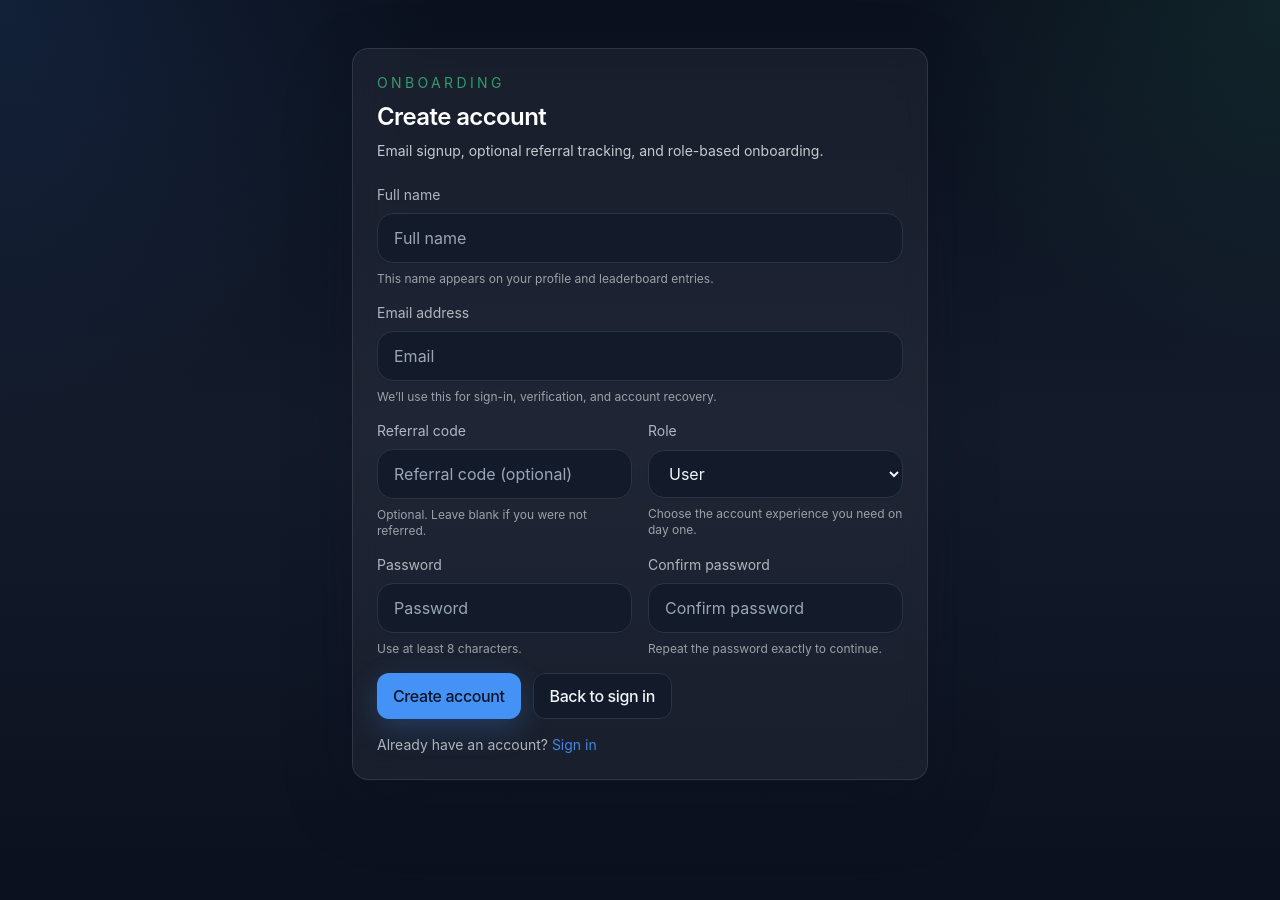
SignupPage › shows advertiser-specific next steps and supports resending confirmation
This screenshot has width=1280, height=900.
Type "Advertiser Team" into the field with placeholder "Full name".
click(640, 238); type("Advertiser Team")  # box 377,213 -> 903,263
Type "ads@example.com" into the field with placeholder "Email".
click(640, 356); type("ads@example.com")  # box 377,331 -> 903,381
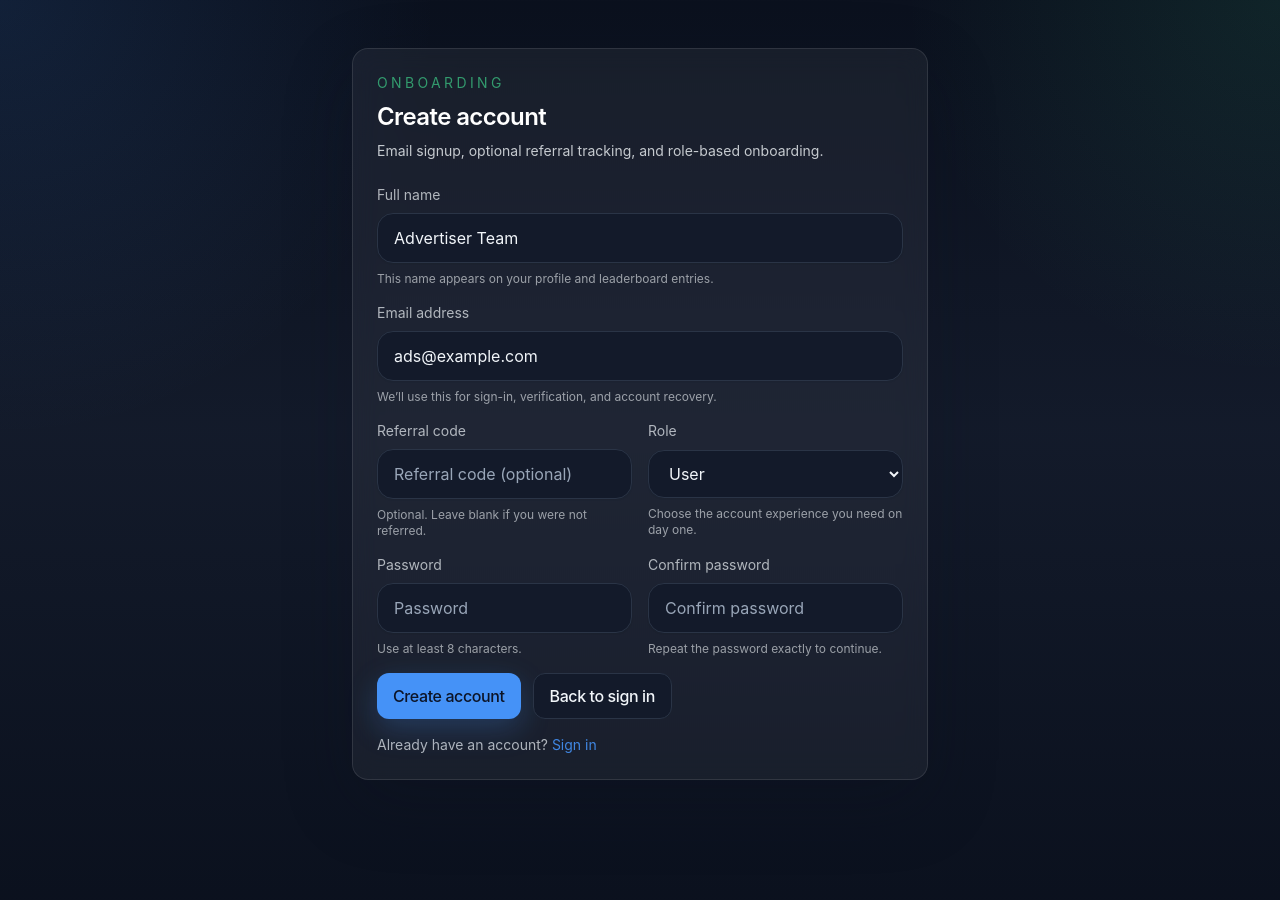
Select "Advertiser" in the dropdown at {"x": 776, "y": 474}, box 648,450 -> 903,498
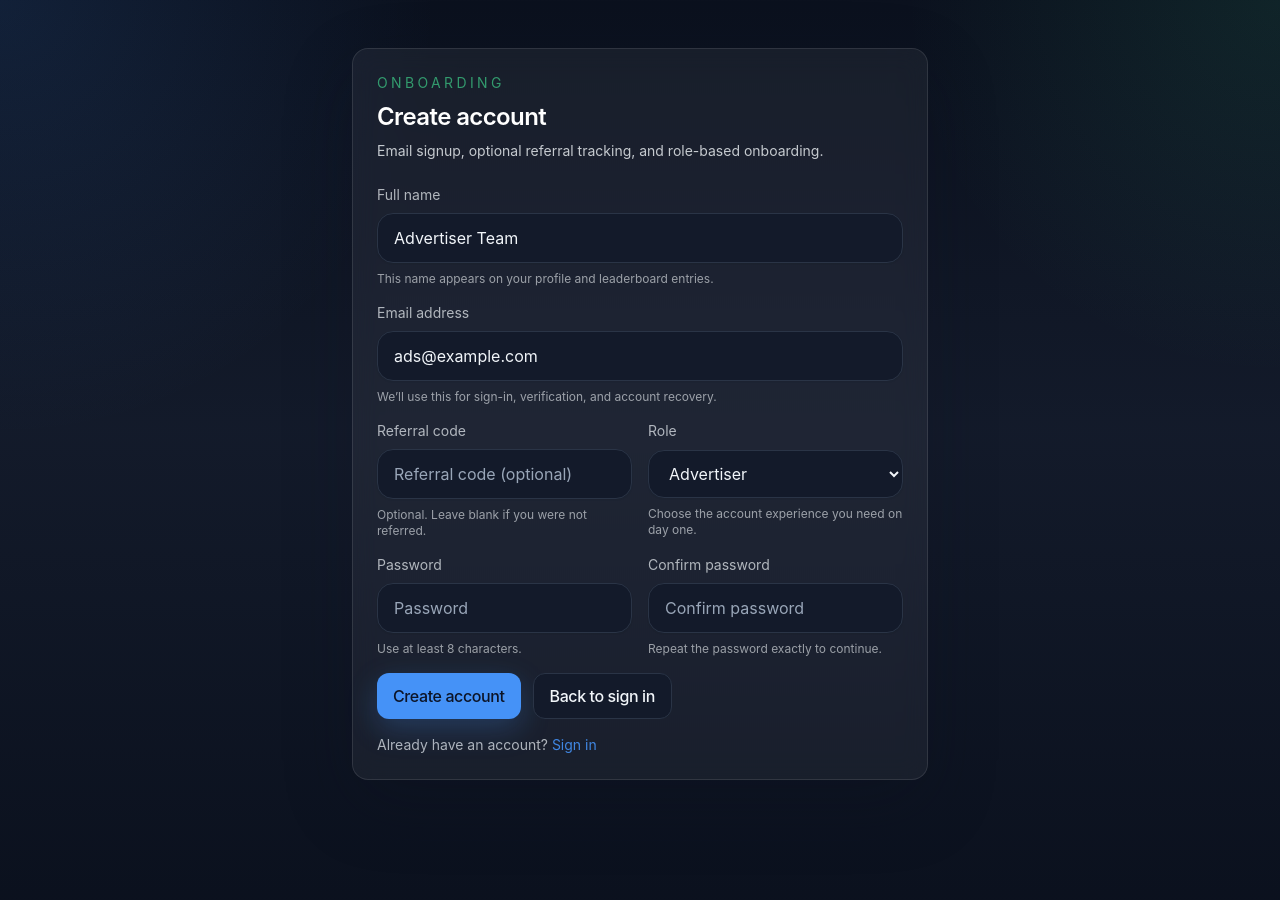
Type "Password123!" into the password field with placeholder "Password".
click(504, 608); type("Password123!")  # box 377,583 -> 632,633
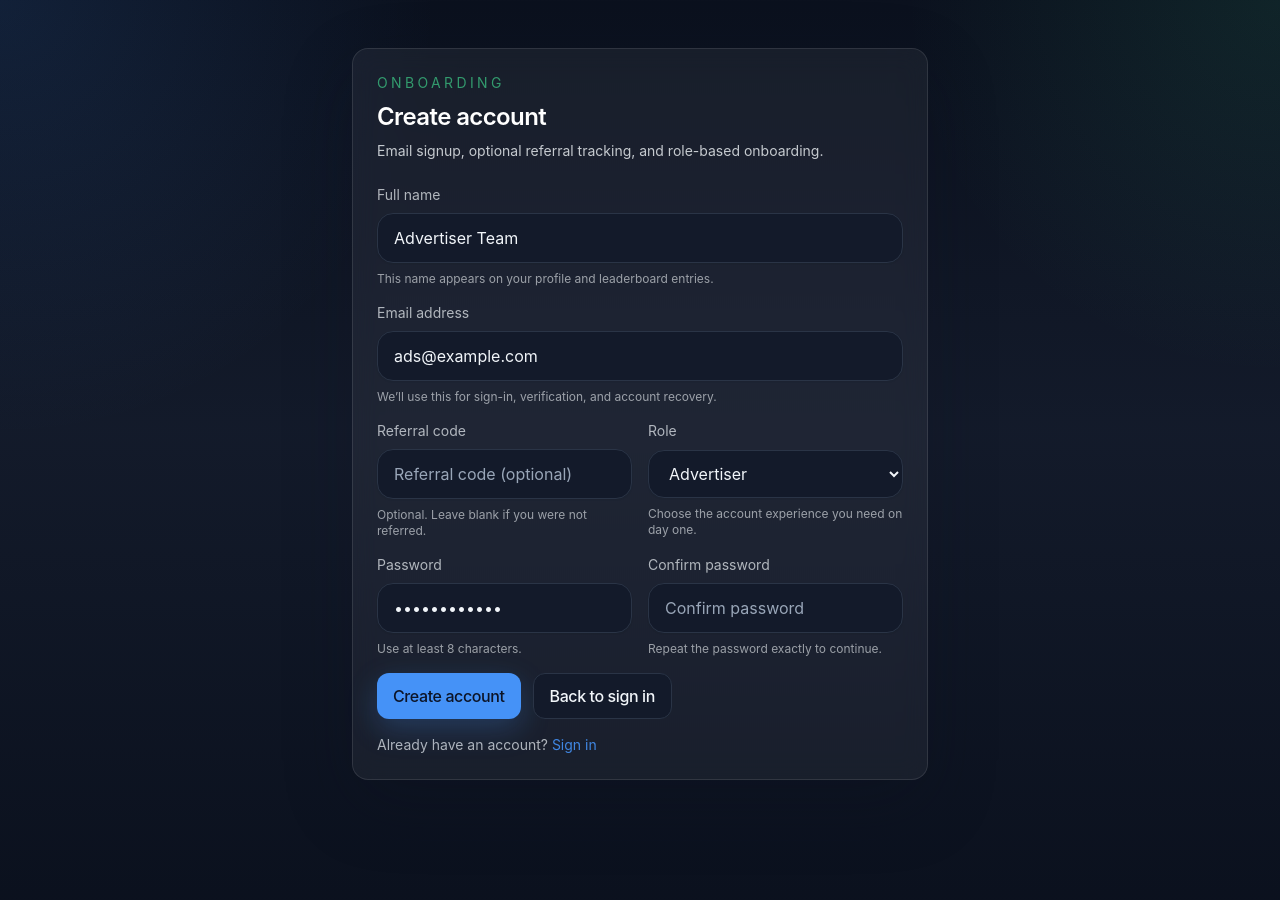
Type "Password123!" into the password field with placeholder "Confirm password".
click(776, 608); type("Password123!")  # box 648,583 -> 903,633
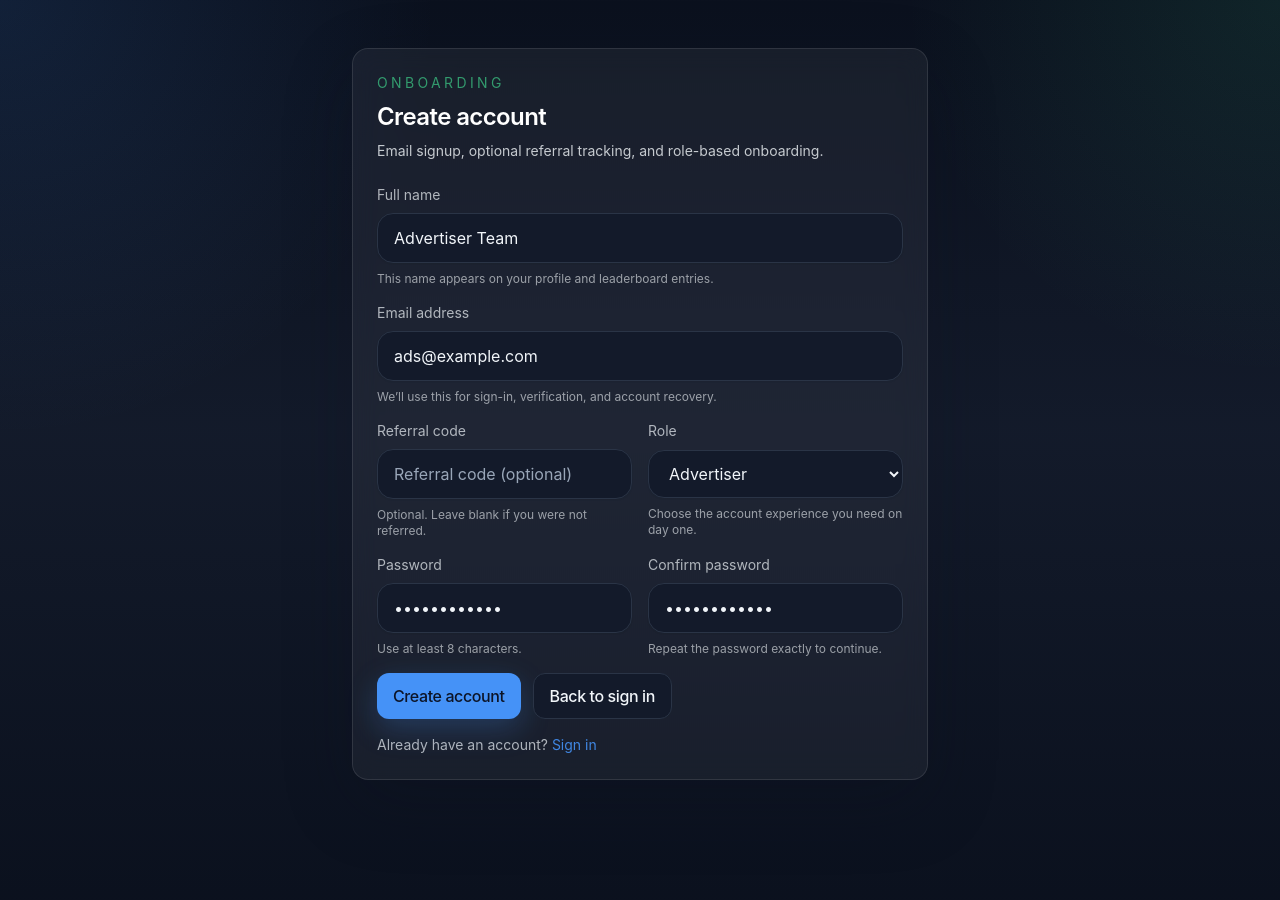
Click the button "Create account".
click(449, 696)  # box 377,673 -> 520,719
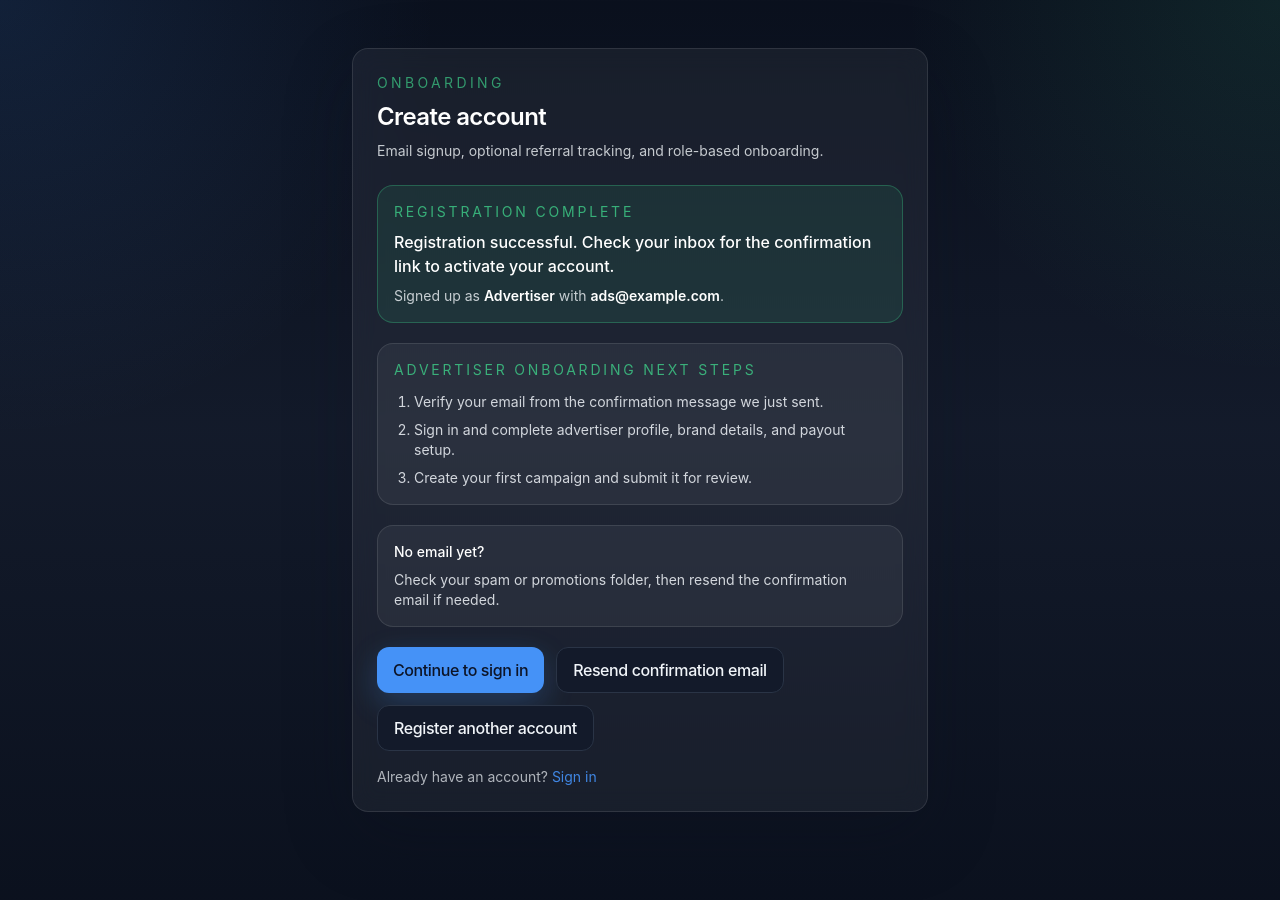
Now the heading "Advertiser onboarding next steps" is shown, box 394,361 -> 756,378
Click the button "Resend confirmation email".
click(670, 670)  # box 556,647 -> 784,693
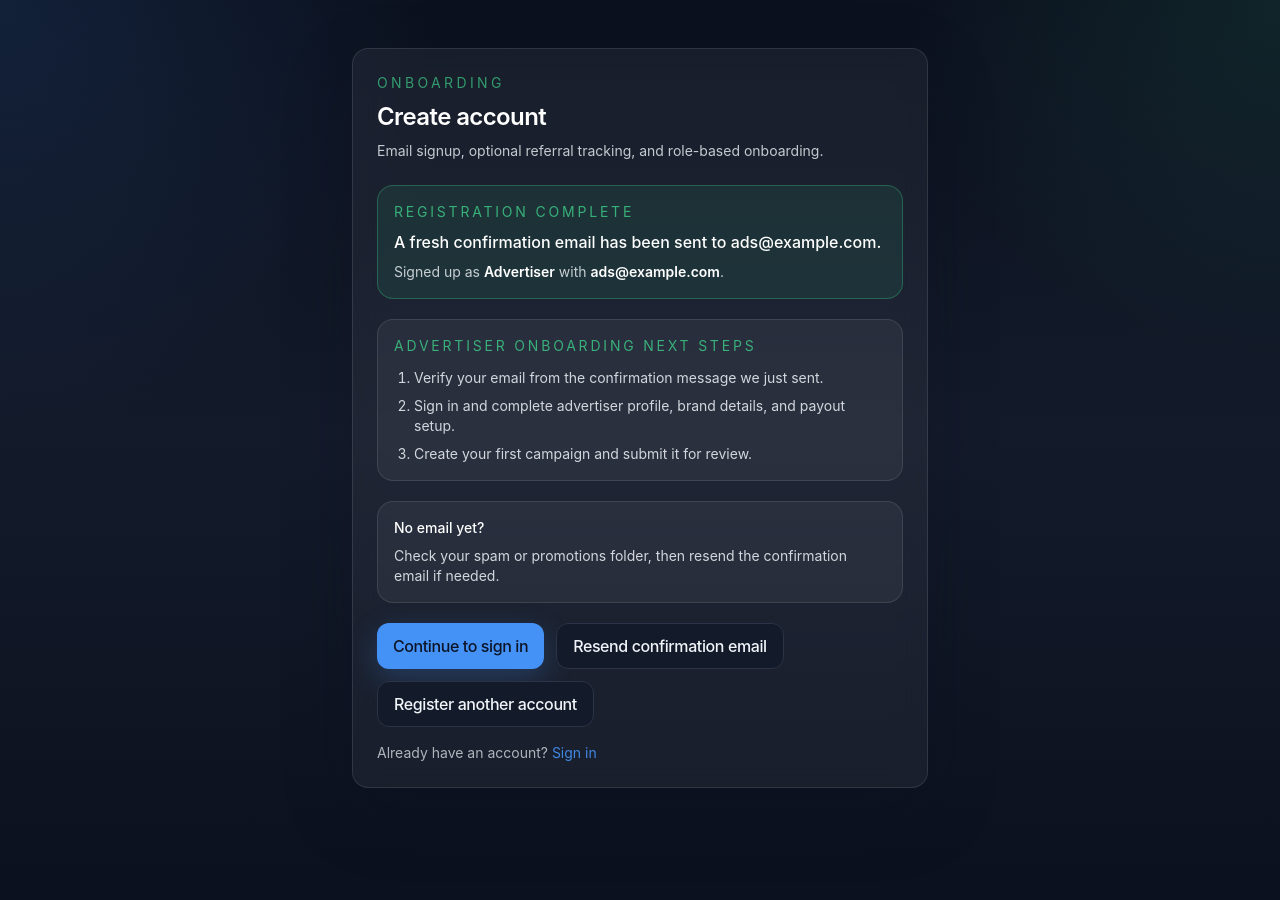
Now the text "A fresh confirmation email has been sent to ads@example.com." is shown, box 394,230 -> 886,254
